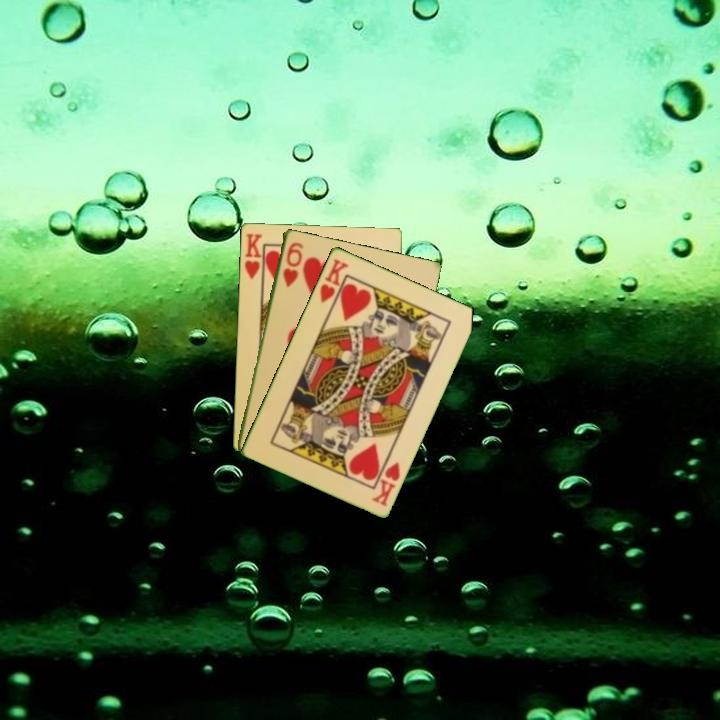6h: (279, 238, 306, 290)
Kh: (316, 255, 351, 311), (368, 453, 403, 509), (241, 230, 266, 285)
